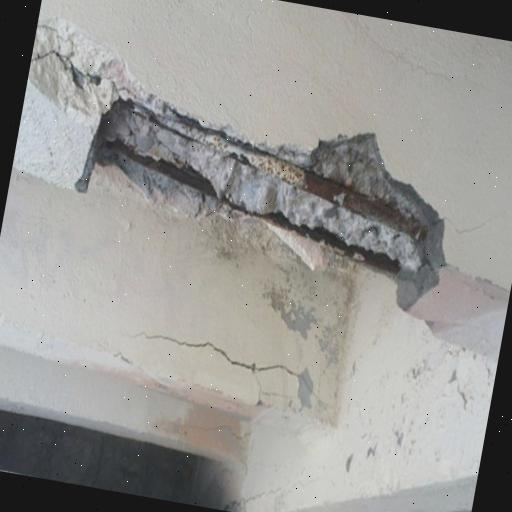spalling: (28, 18, 444, 308), (134, 322, 326, 412)
